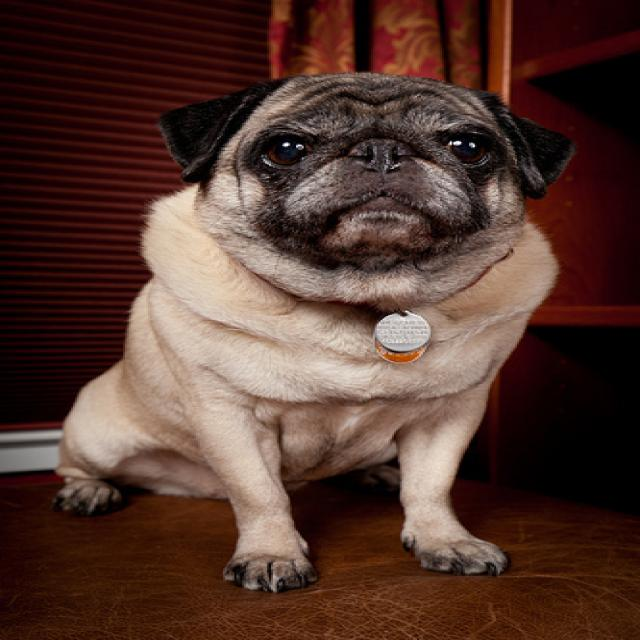dog-pug: (38, 59, 592, 608)
